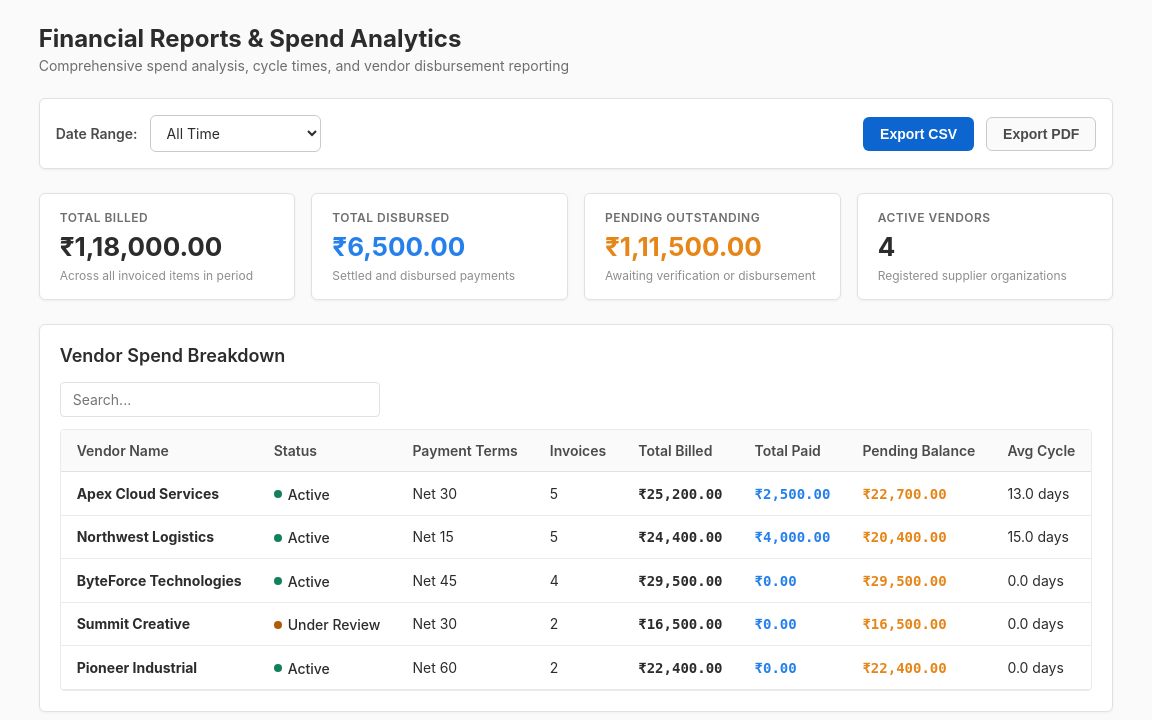
Test: ReportsPage › CSV & PDF Export Controls › opens the browser print dialog for PDF export once report data has loaded
Expected: the text "Apex Cloud Services" is shown, 77,485 -> 219,502
Click the button with test id "export-pdf-btn": click(1041, 134) 986,116 -> 1096,150
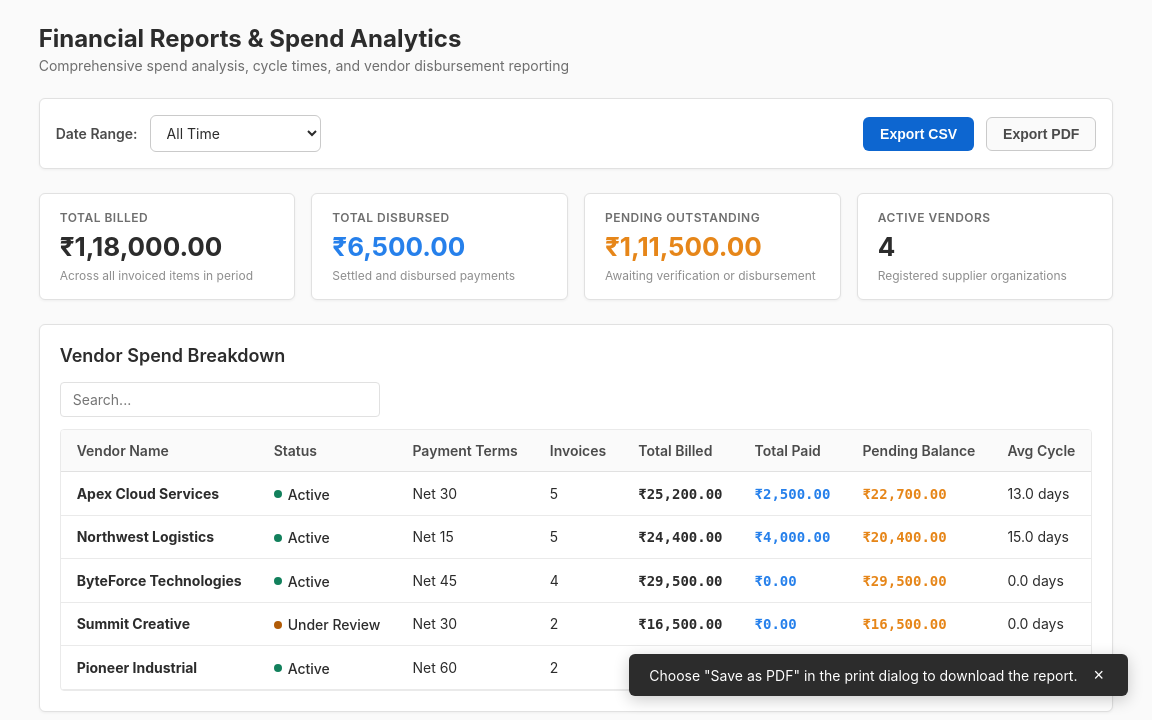
Expected: the text "Save as PDF" is shown, 649,666 -> 1078,684
